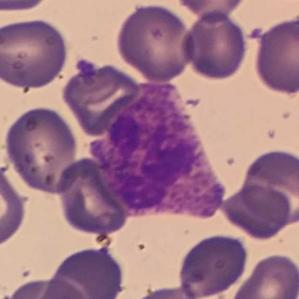Neutrophil: (90, 80, 229, 220)
RBC: (1, 102, 81, 198), (54, 156, 135, 242), (113, 1, 195, 83), (0, 15, 71, 92), (64, 62, 139, 133), (179, 9, 250, 82), (175, 230, 250, 299), (238, 146, 299, 229), (46, 241, 133, 299), (218, 181, 293, 241), (251, 12, 299, 96), (228, 250, 299, 299), (0, 159, 30, 249), (2, 275, 87, 299), (123, 282, 216, 299), (174, 0, 250, 20), (0, 0, 58, 14)
